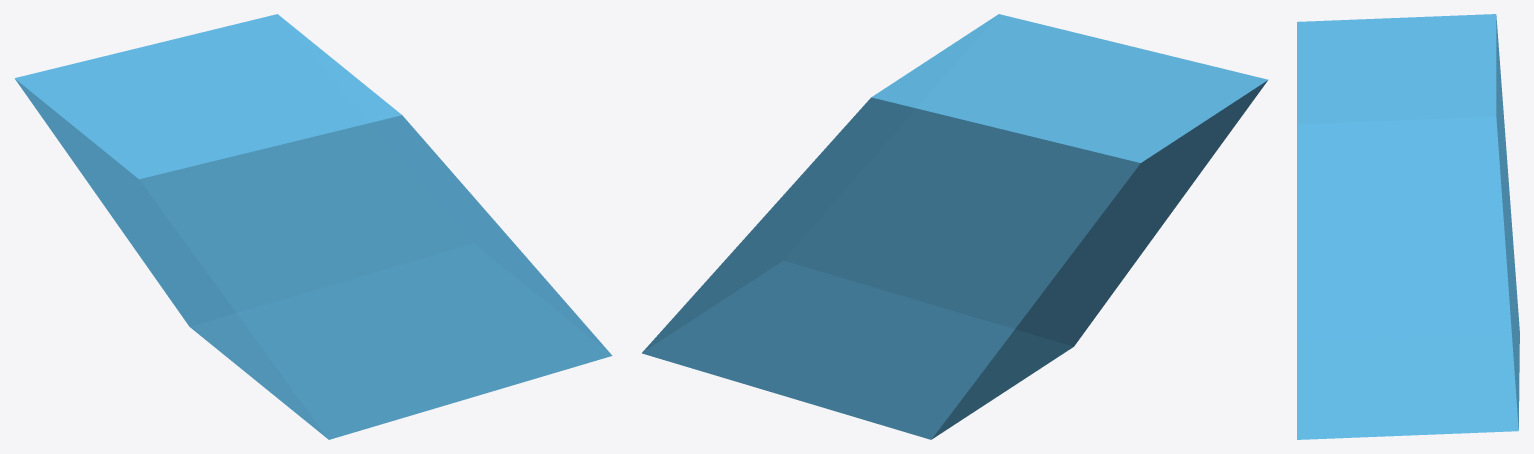
Rendered from Event_421127236_HBrechit_32.fbx.
The picture shows the model from 3 angles, left to right: view 1: azimuth 30°, elevation 25°; view 2: azimuth 150°, elevation 25°; view 3: azimuth 270°, elevation 25°; orthographic projection. The views are drawn at different scales.
Parts seen in each view (by area): view 1: Model; view 2: Model; view 3: Model.
Boxes of the visible parts, <box> form: Model: <box>14,14,612,439</box>; Model: <box>642,14,1268,439</box>; Model: <box>1297,14,1519,439</box>.
Bounding box in the file's own units: 0.8798 × 0.5625 × 0.4488.
